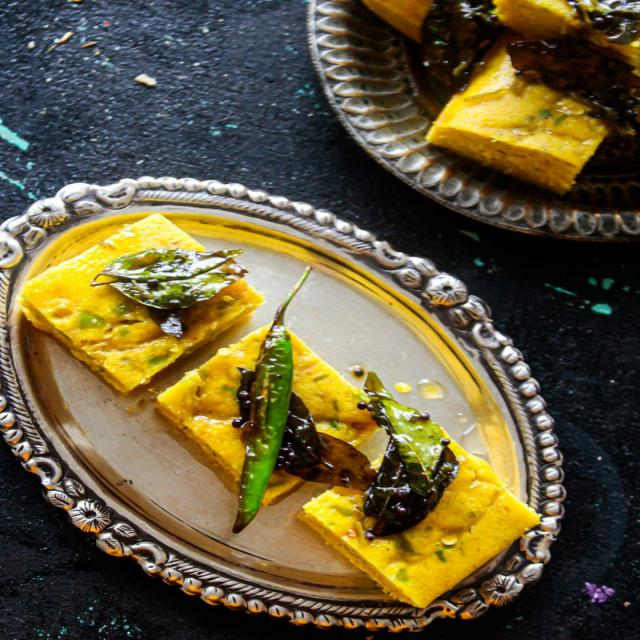dhokla: (40, 227, 504, 590), (344, 7, 640, 197)
